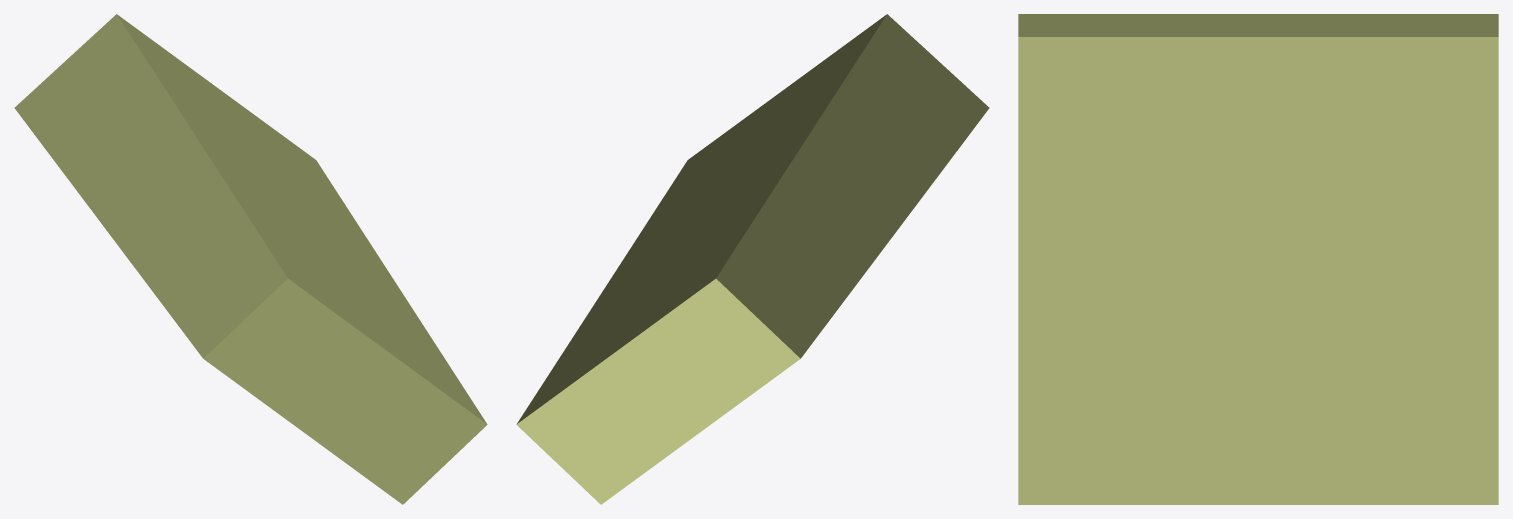
The picture shows the model from 3 angles, left to right: view 1: azimuth 30°, elevation 25°; view 2: azimuth 150°, elevation 25°; view 3: azimuth 270°, elevation 25°; orthographic projection. The views are drawn at different scales.
Parts seen in each view (by area): view 1: 0_2_3_2_1_2_3_0_2_3; view 2: 0_2_3_2_1_2_3_0_2_3; view 3: 0_2_3_2_1_2_3_0_2_3.
Boxes of the visible parts, x1,y1,x2,y2 form: 0_2_3_2_1_2_3_0_2_3: (14,14,487,504); 0_2_3_2_1_2_3_0_2_3: (516,14,989,504); 0_2_3_2_1_2_3_0_2_3: (1018,14,1498,504).
Bounding box in the file's own units: 4.75 × 6.07 × 6.
